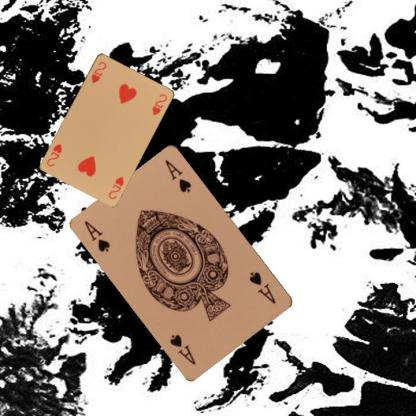2h: (106, 174, 127, 200), (88, 59, 107, 84)
As: (247, 269, 278, 306), (82, 218, 112, 254)
